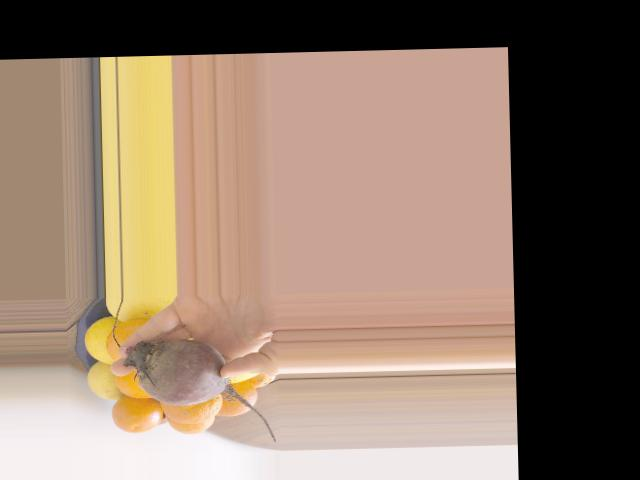beet: (125, 336, 275, 445)
